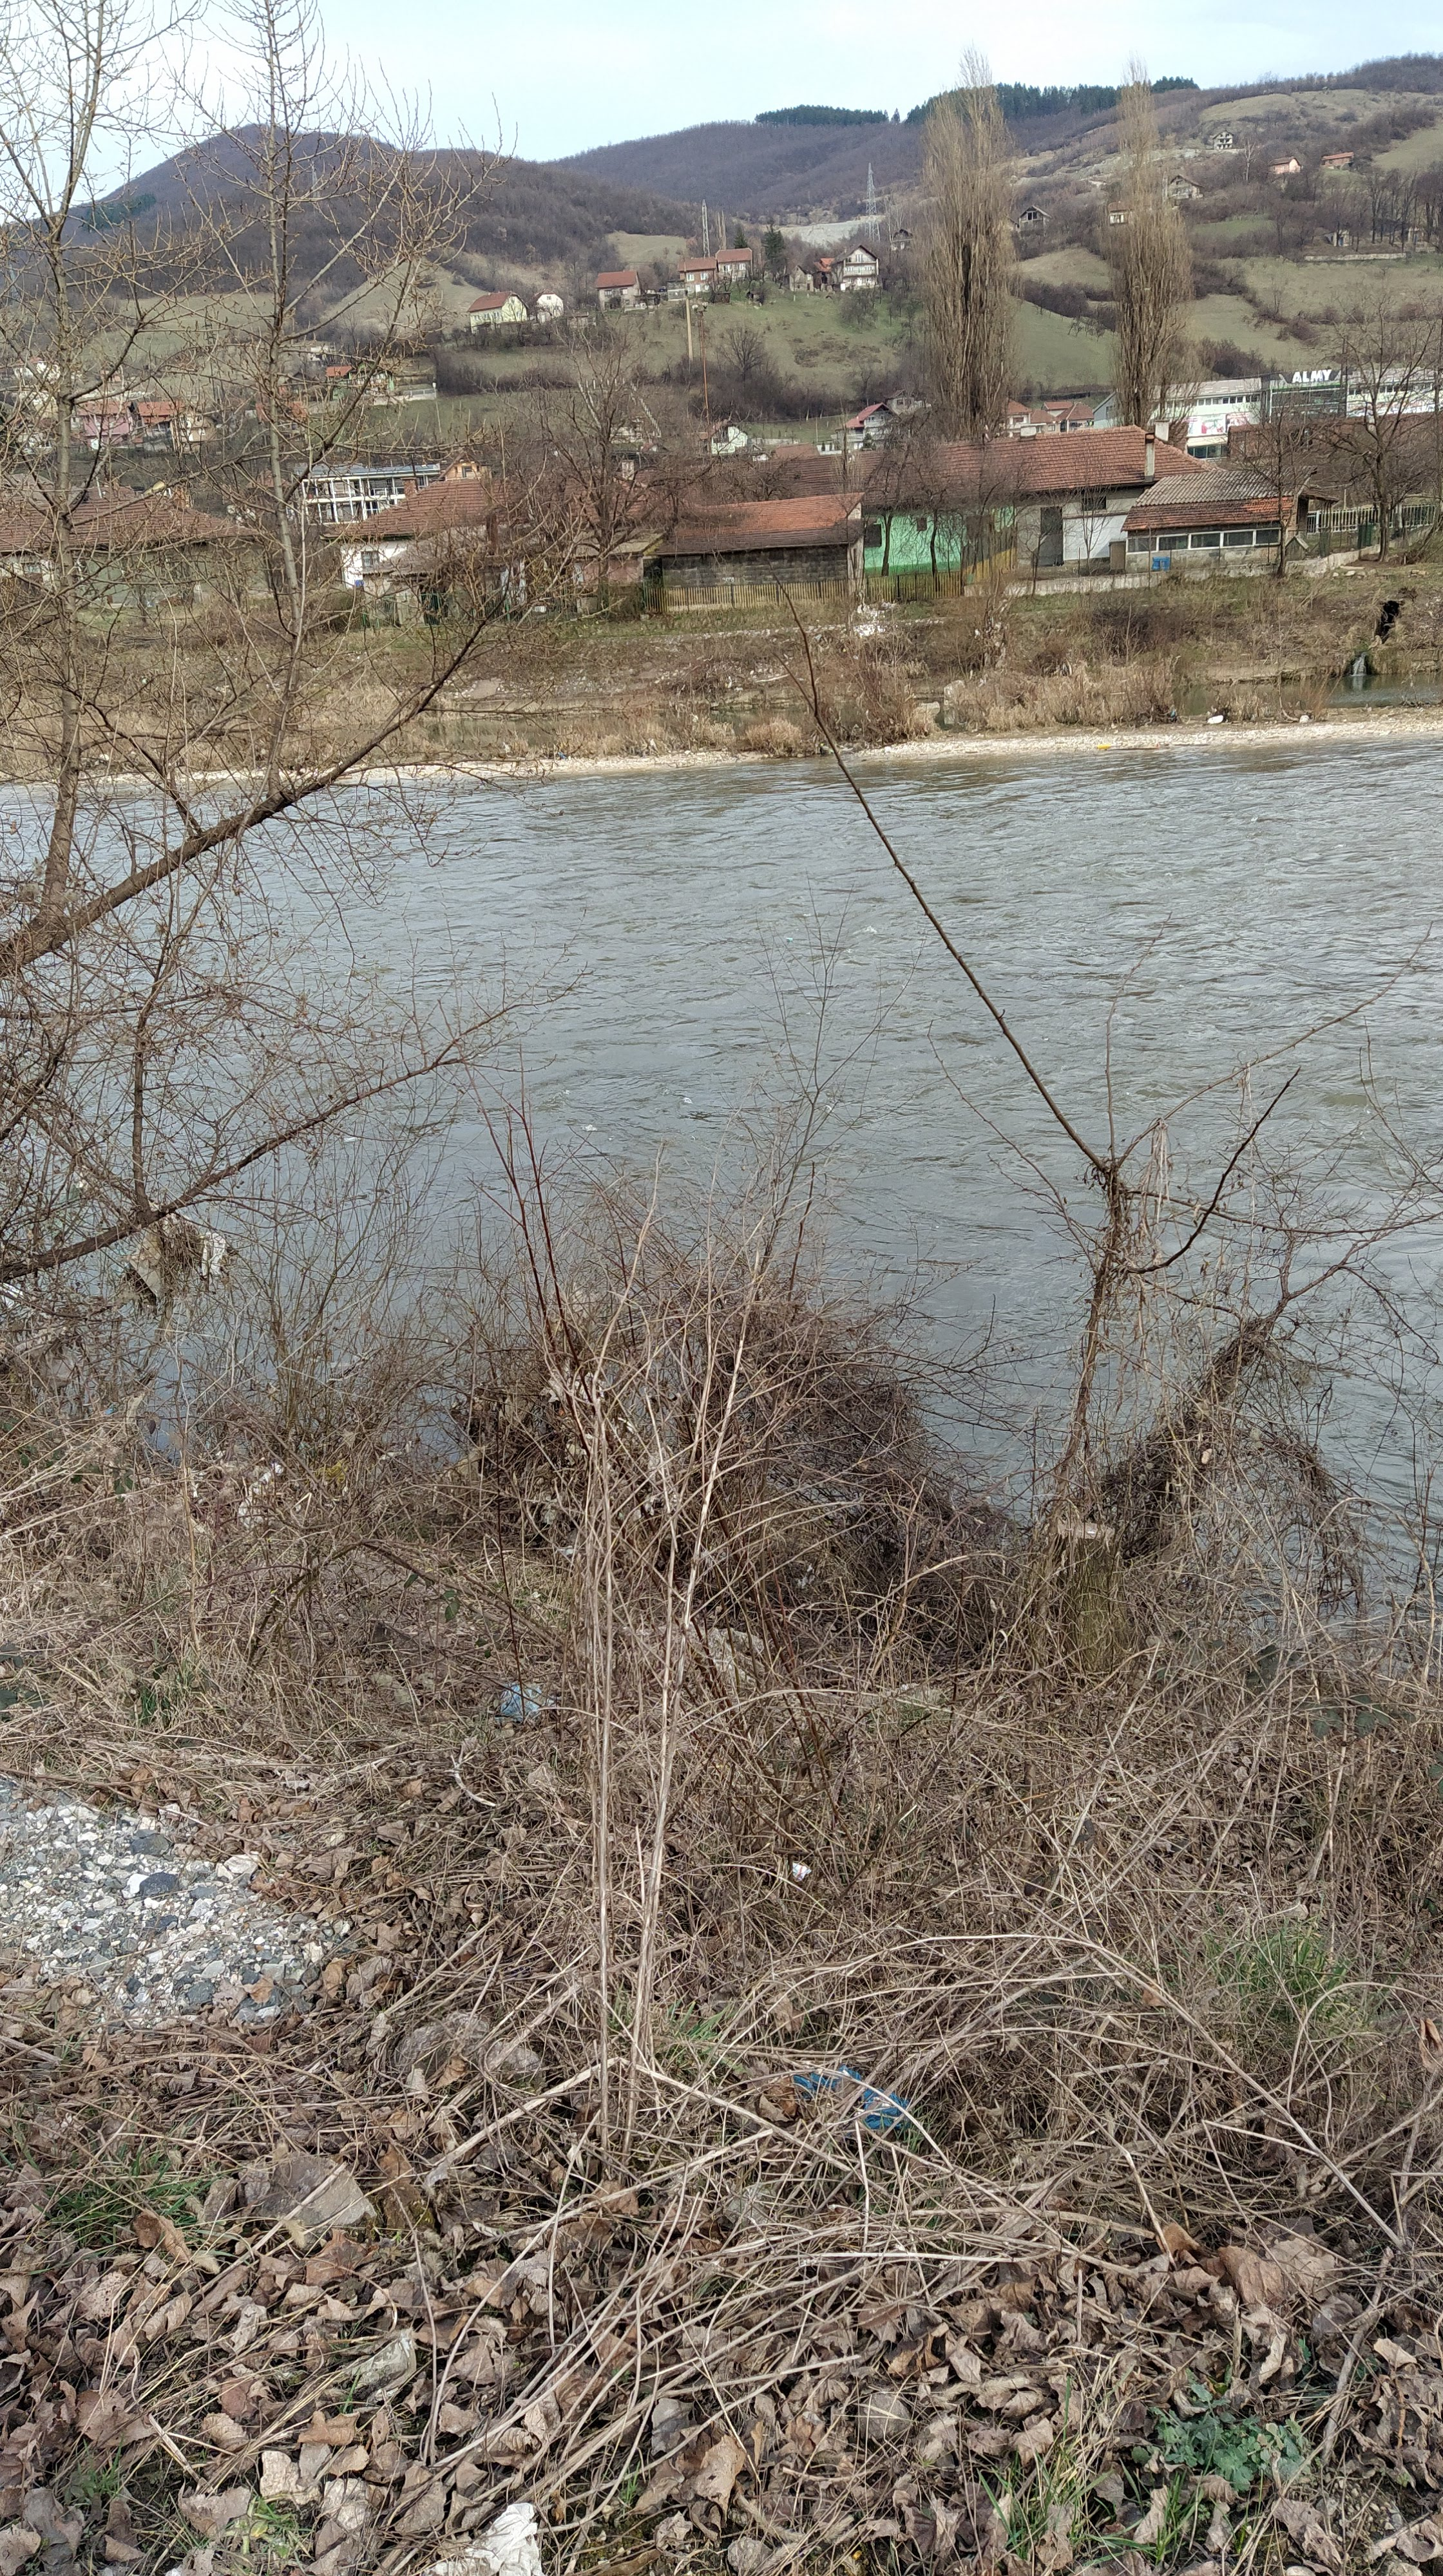Plastic Bottle: (343, 1136, 358, 1143), (1098, 743, 1110, 750), (788, 936, 791, 941)
